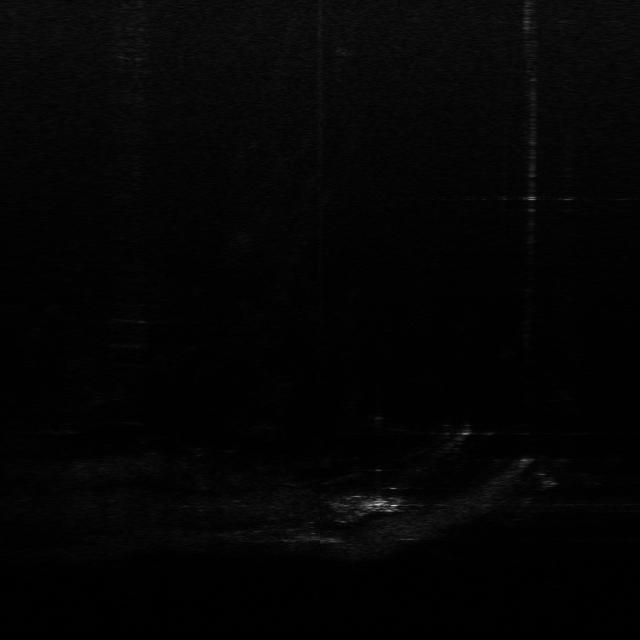rov: (366, 495, 398, 516)
